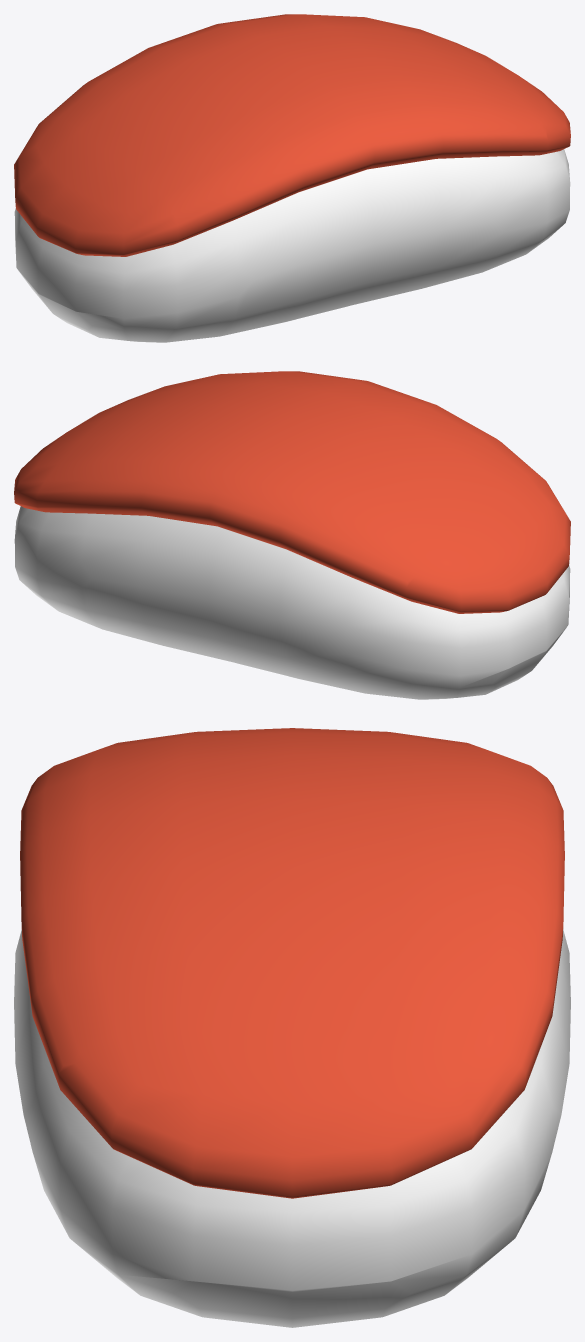
The model's file is tamagotchi_sushi1.fbx.
The picture shows the model from 3 angles, top to bottom: view 1: azimuth 30°, elevation 25°; view 2: azimuth 150°, elevation 25°; view 3: azimuth 270°, elevation 25°; orthographic projection. The views are drawn at different scales.
Visible parts, largest first — view 1: Plane.001, Plane; view 2: Plane.001, Plane; view 3: Plane.001, Plane.
Part boxes in pixels (<box>): Plane.001: <box>14,14,570,256</box>; Plane: <box>14,149,570,342</box>; Plane.001: <box>14,371,570,613</box>; Plane: <box>14,506,570,699</box>; Plane.001: <box>20,728,564,1198</box>; Plane: <box>14,930,570,1327</box>.
Bounding box in the file's own units: 210 × 90.89 × 120.
